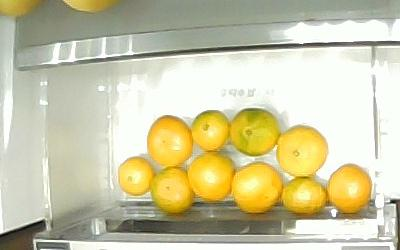tangerine: (229, 160, 283, 214), (275, 124, 328, 177), (228, 106, 280, 156), (145, 113, 193, 167), (186, 151, 235, 202), (325, 162, 372, 213), (149, 166, 194, 213), (279, 175, 328, 214), (189, 108, 230, 150), (116, 155, 156, 195)
